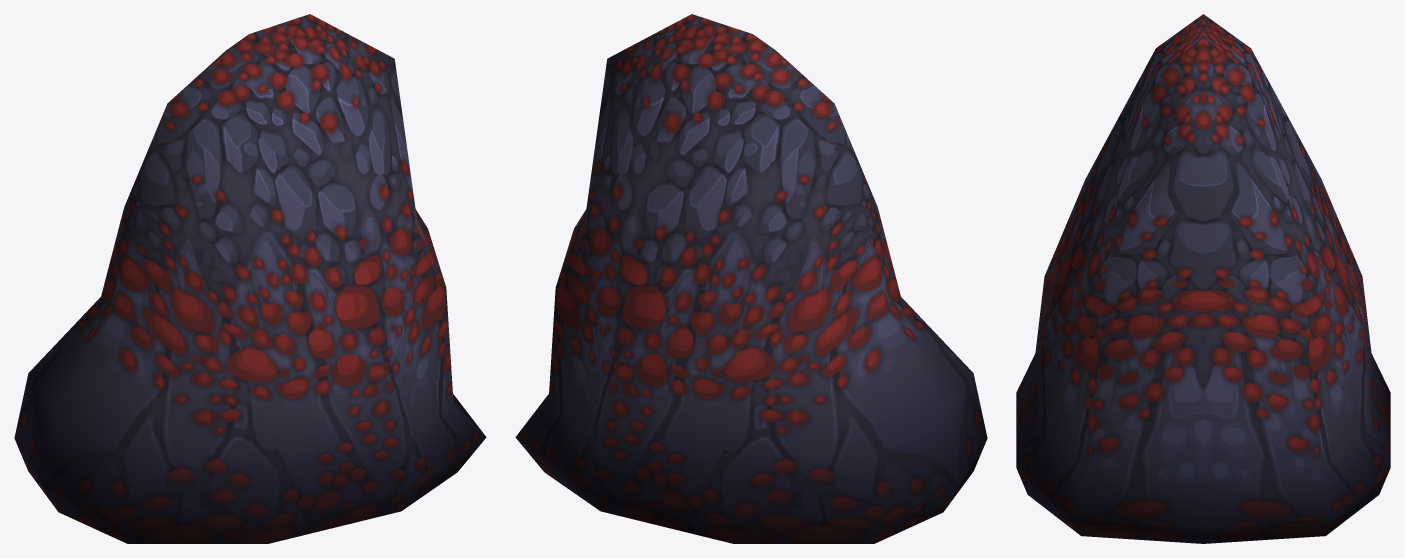
Rendered from Rock_03b.FBX.
The picture shows the model from 3 angles, left to right: view 1: azimuth 30°, elevation 25°; view 2: azimuth 150°, elevation 25°; view 3: azimuth 270°, elevation 25°; orthographic projection. The views are drawn at different scales.
Visible parts, largest first — view 1: Rock_03b; view 2: Rock_03b; view 3: Rock_03b.
Boxes of the visible parts, x1,y1,x2,y2 form: Rock_03b: [14, 14, 486, 543]; Rock_03b: [515, 14, 987, 543]; Rock_03b: [1016, 14, 1390, 543].
Size of the model in its own units: 285 by 294 by 221.
